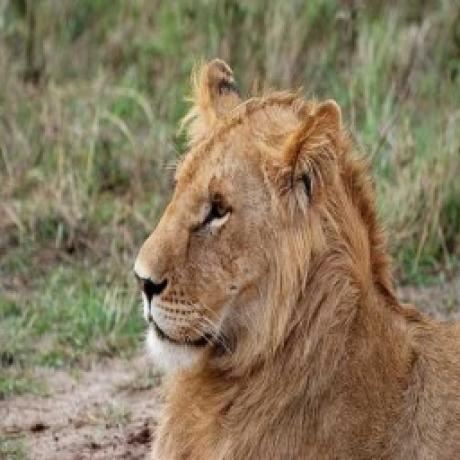Lion: (131, 55, 460, 460)
